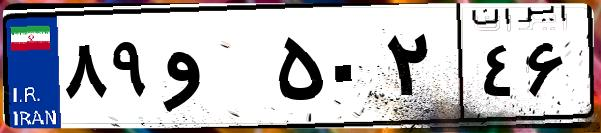0: (330, 28, 385, 110)
2: (385, 28, 445, 110)
4: (475, 38, 525, 113)
5: (270, 28, 330, 110)
6: (525, 38, 570, 115)
8: (57, 26, 110, 100)
9: (110, 28, 158, 98)
و: (158, 20, 270, 120)
